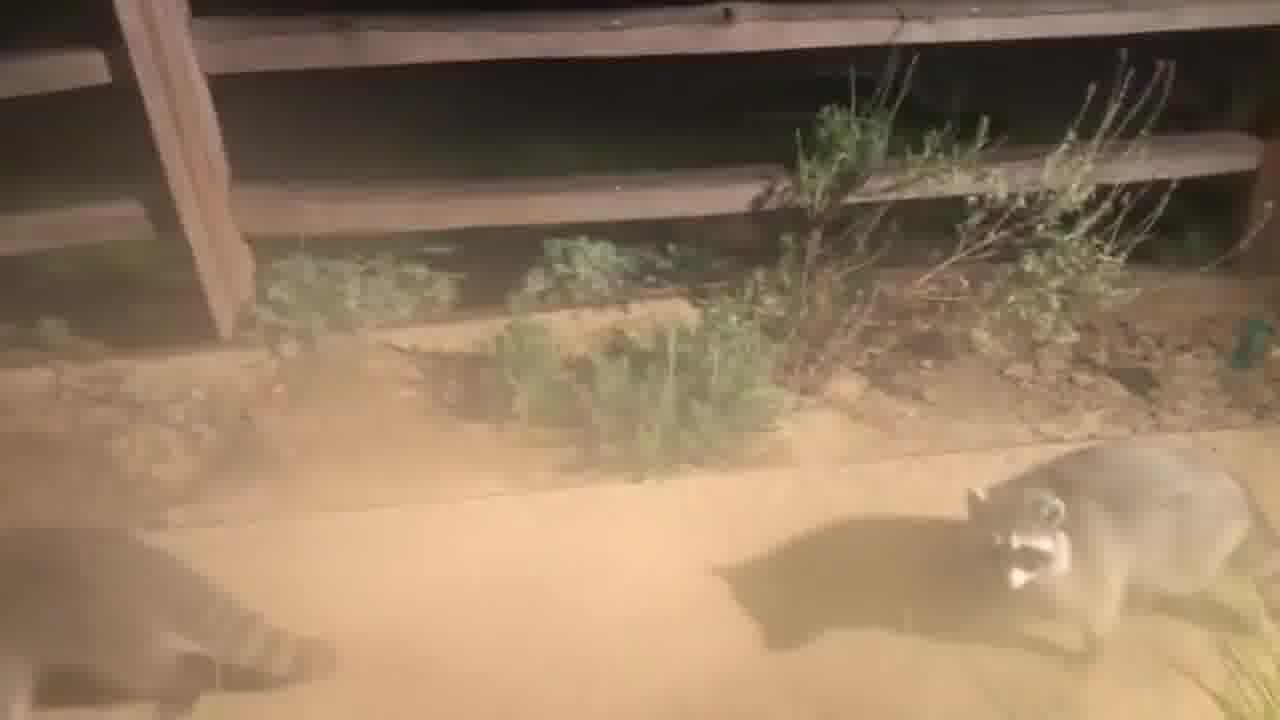raccoon: (940, 418, 1280, 688), (0, 515, 354, 720)
